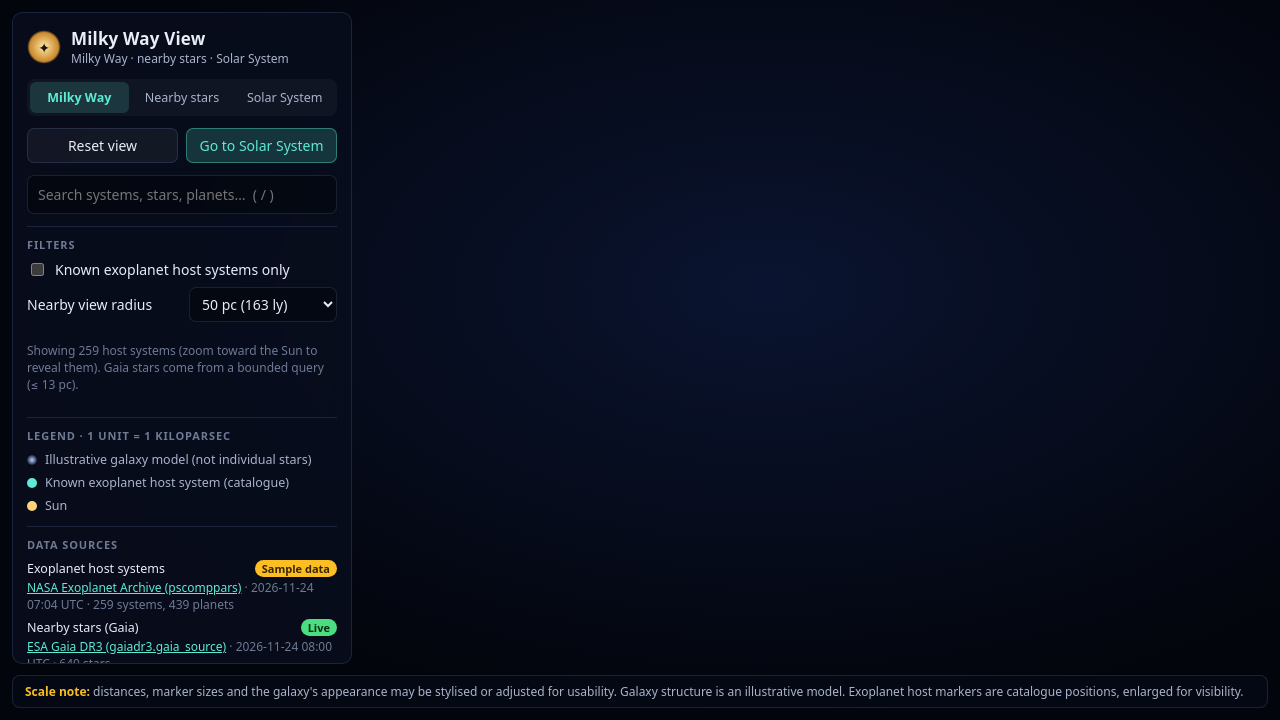
Scenario: Explorer › shows 'no confirmed planets in this dataset' for a Gaia star
This screenshot has width=1280, height=720.
Type "8605115520" into the dropdown labelled "Search systems, stars, planets… ( / )". click: (182,194)
box: left=27, top=175, right=337, bottom=214
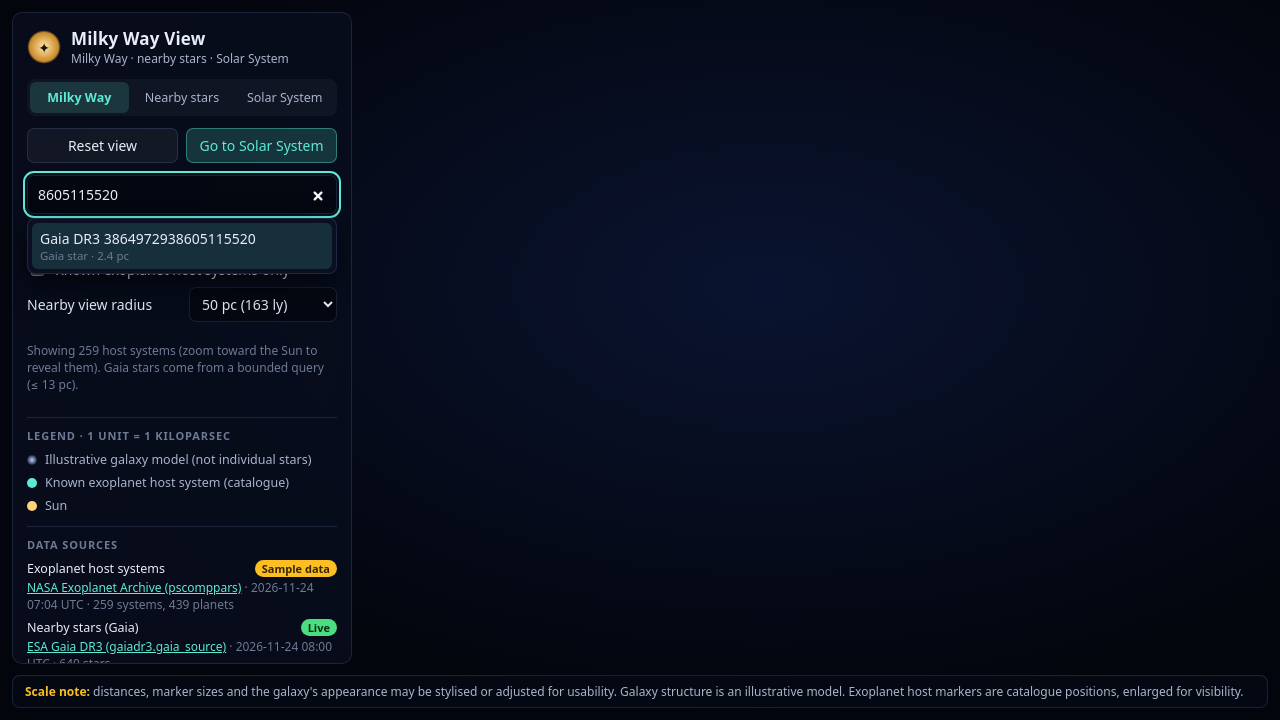
Click the option "Gaia DR3 3864972938605115520 Gaia star · 2.4 pc". click: (182,246)
box: left=32, top=223, right=332, bottom=269
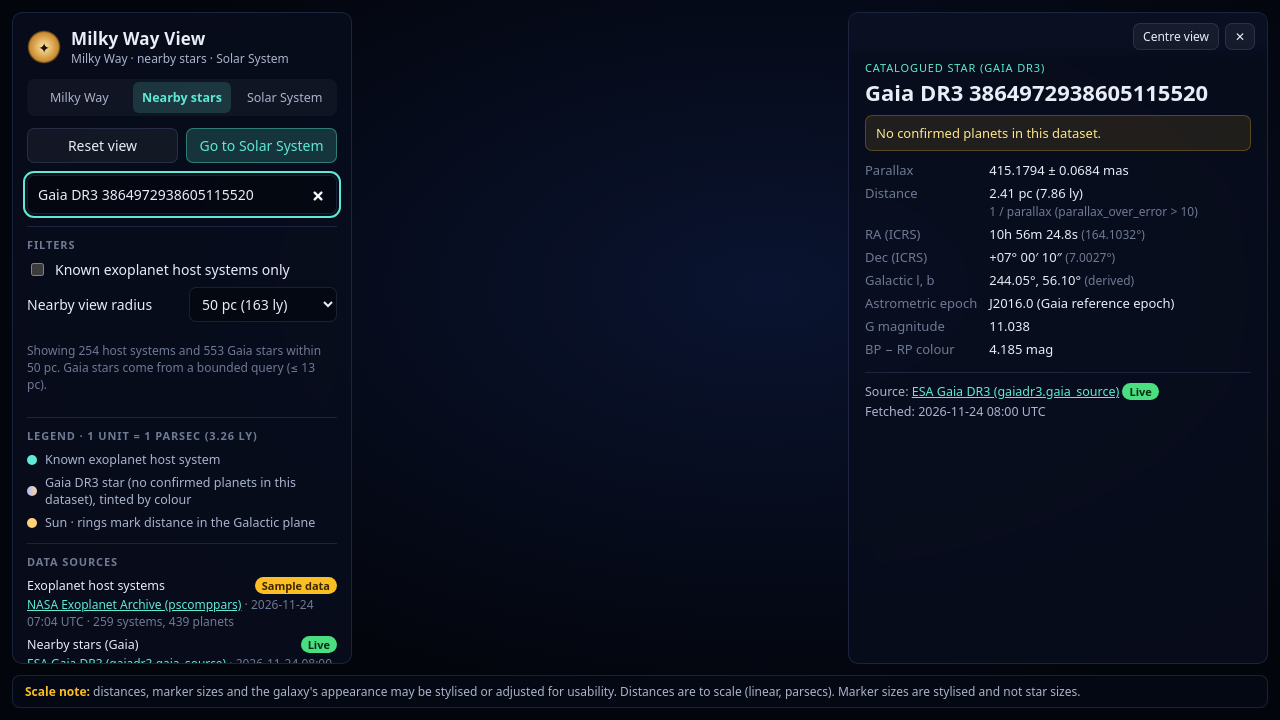
Now the text "No confirmed planets in this dataset." is shown, box left=865, top=115, right=1251, bottom=151
Now the text "J2016.0 (Gaia reference epoch)" is shown, box left=989, top=294, right=1174, bottom=312
